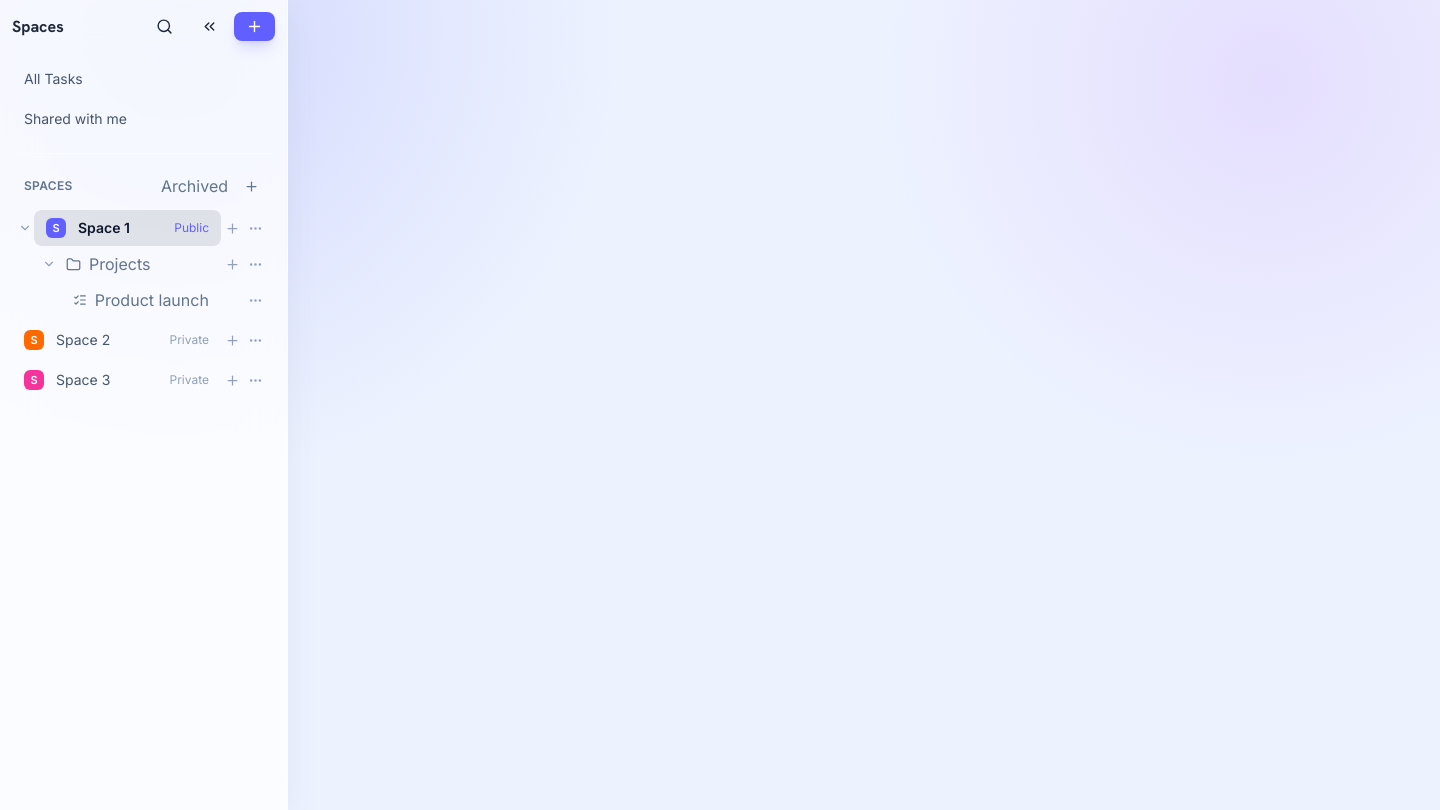
Test: ContextSidebar › creates a Space locally from the Spaces menu
Click the button named "Create space": (254,26) top-left (234, 12), bottom-right (275, 41)
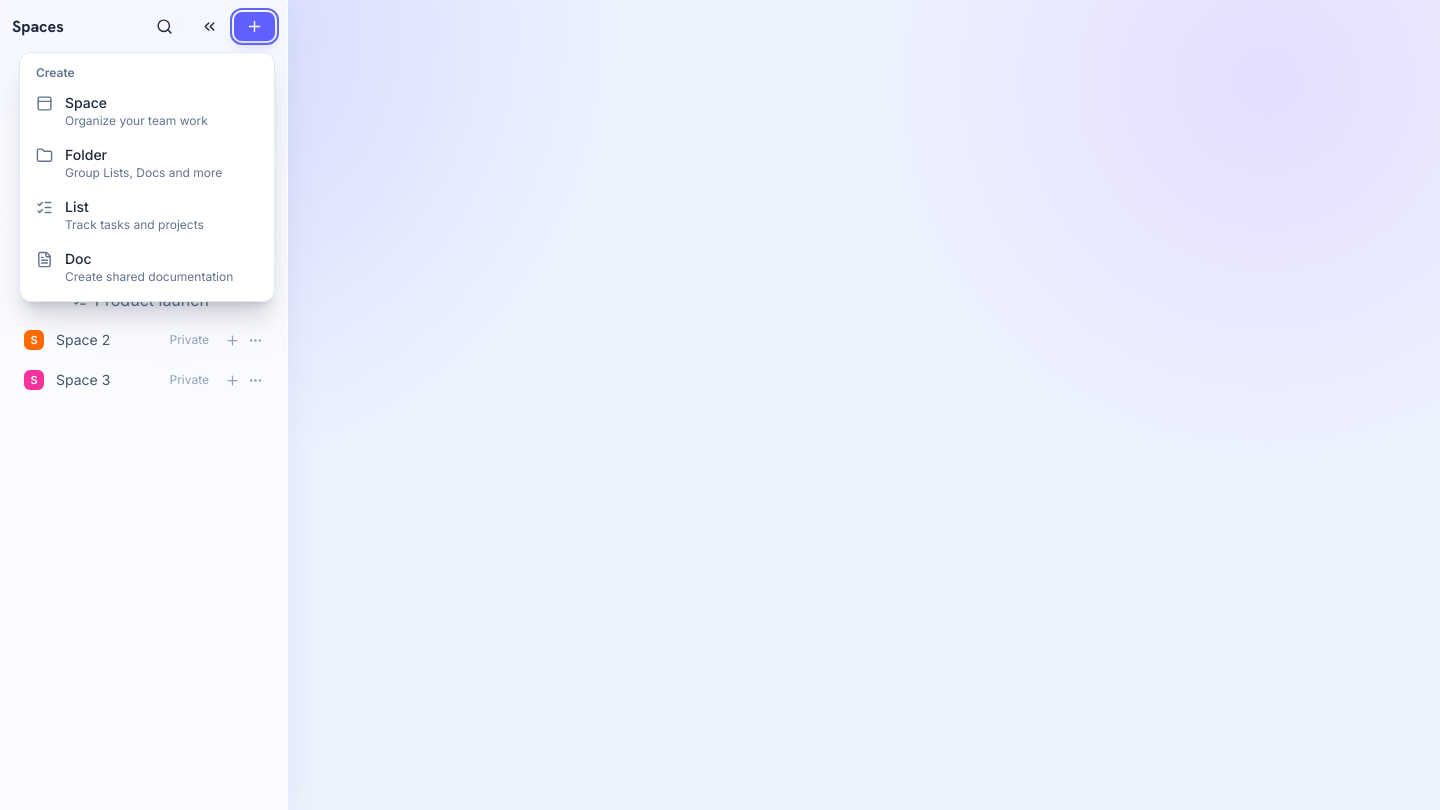
Click the menu item named "SpaceOrganize your team work": (147,111) top-left (28, 85), bottom-right (266, 137)
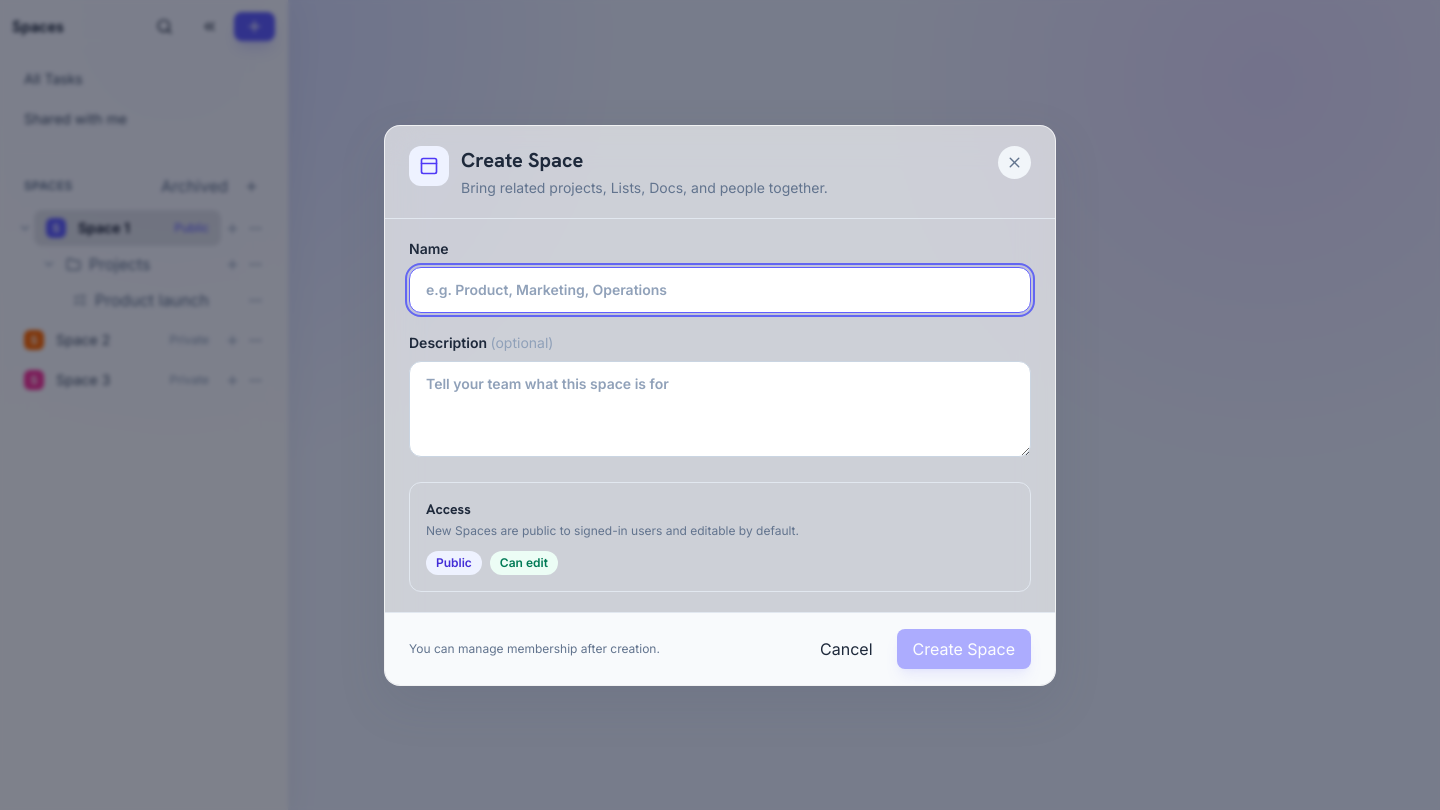
In the field named "Space name": (720,290) top-left (409, 266), bottom-right (1031, 312), type "Marketing"
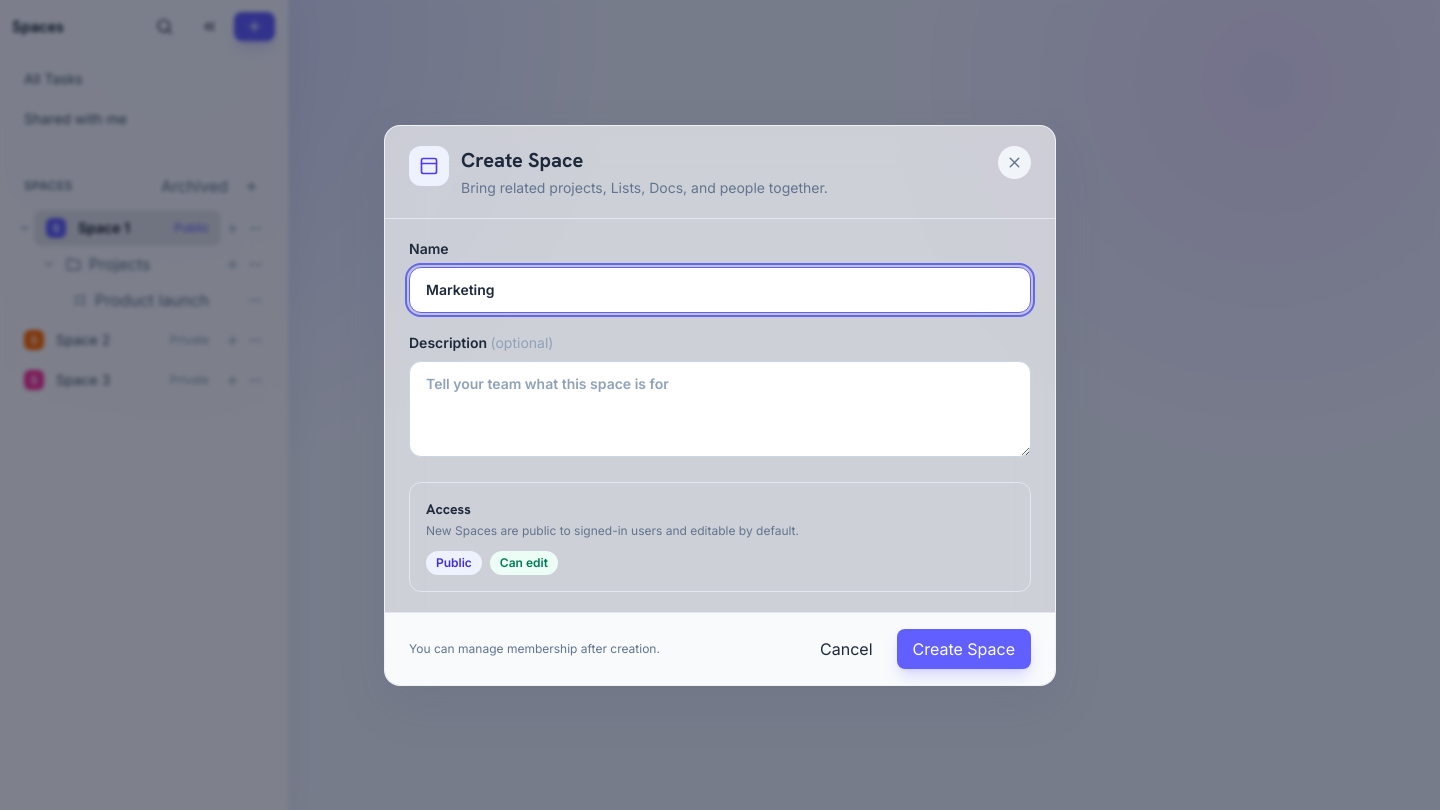
Click the button "Create Space": (964,648) top-left (896, 628), bottom-right (1031, 668)
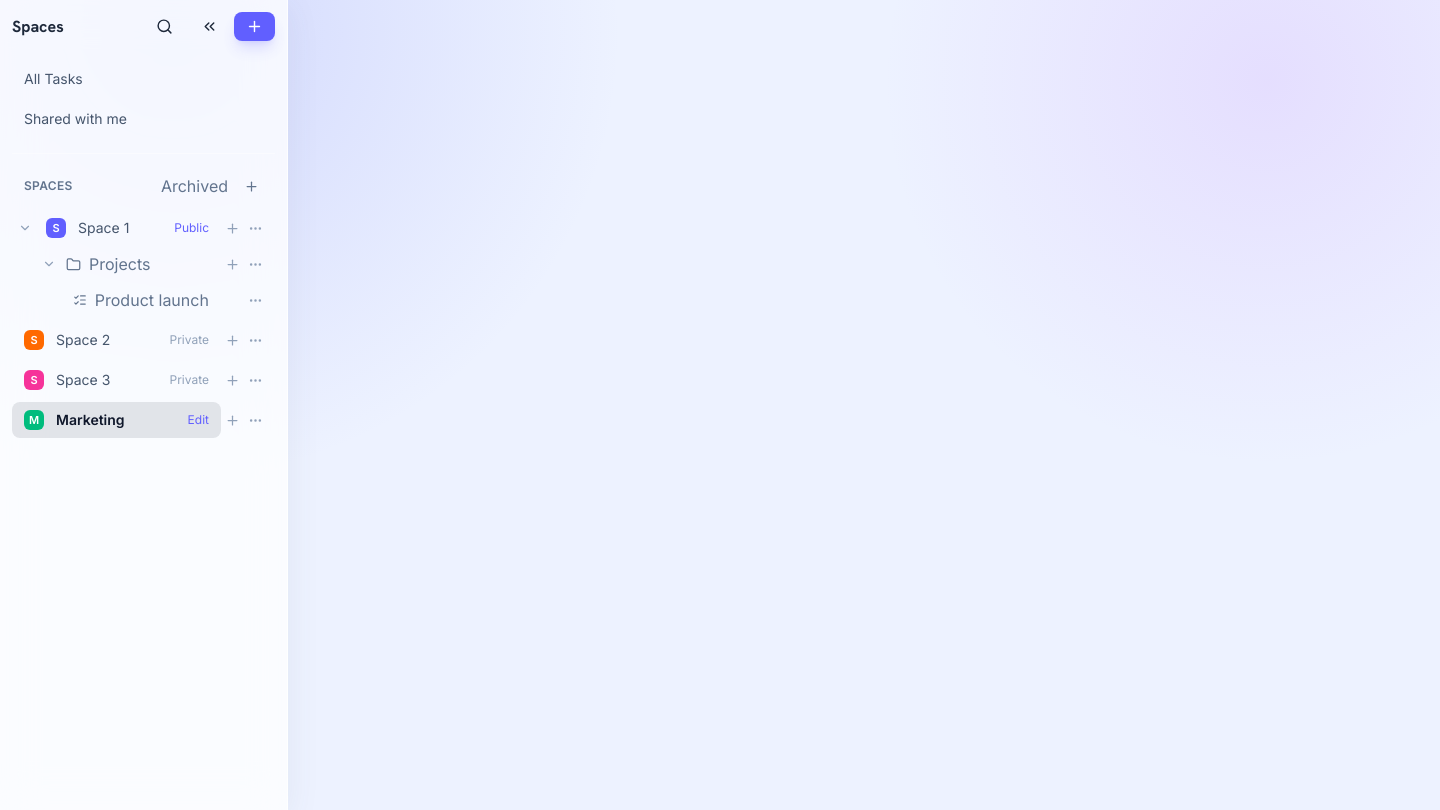
Check: the link "M Marketing Edit" is shown, box top-left (12, 402), bottom-right (221, 438)
